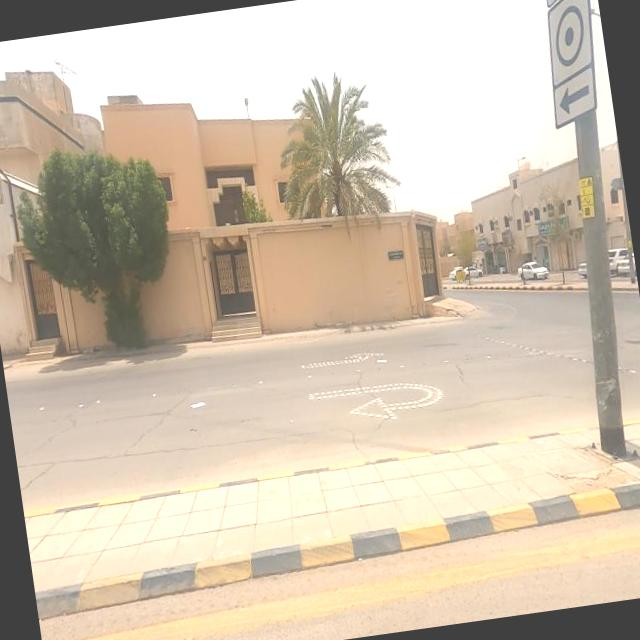debris: (476, 198, 545, 282)
